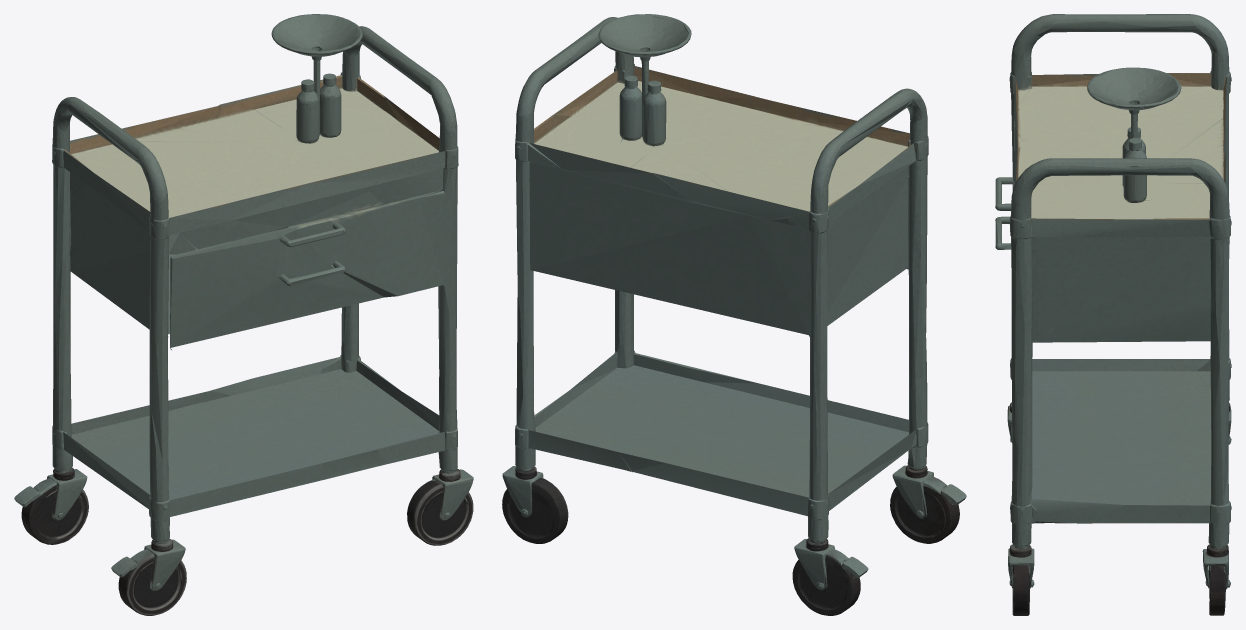
The model's file is carrello_A.glb.
3 views of the same model, side by side, from view 1: azimuth 30°, elevation 25°; view 2: azimuth 150°, elevation 25°; view 3: azimuth 270°, elevation 25° (orthographic).
Bounding box in the file's own units: 1.45 × 1.9 × 0.8276.
1 material, 1 textured.
